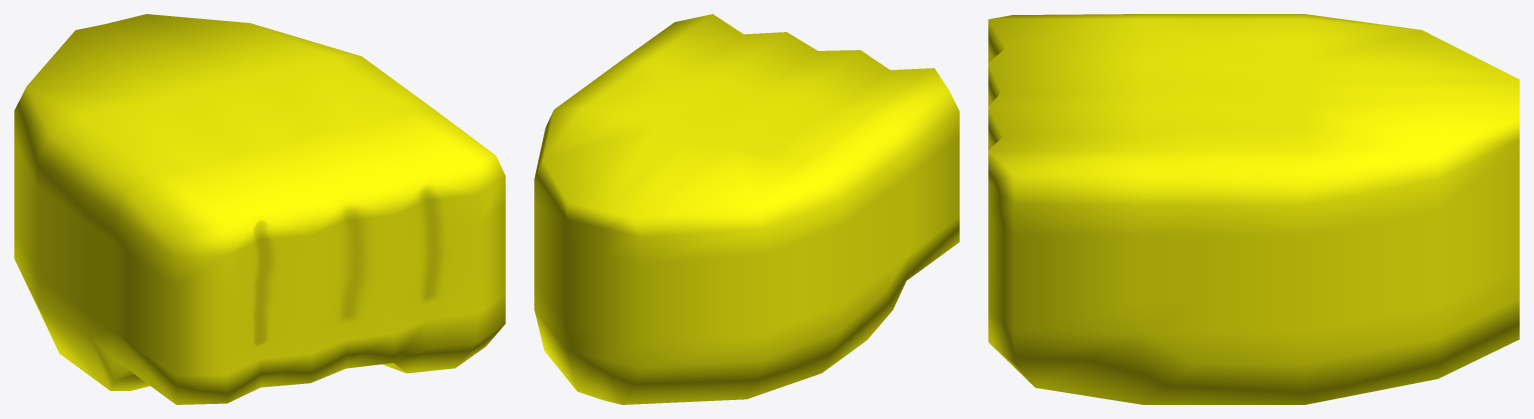
The model's file is normalAttack.obj.
3 views of the same model, side by side, from view 1: azimuth 30°, elevation 25°; view 2: azimuth 150°, elevation 25°; view 3: azimuth 270°, elevation 25° (orthographic). The views are drawn at different scales.
Parts seen in each view (by area): view 1: Cube; view 2: Cube; view 3: Cube.
Boxes of the visible parts, x1,y1,x2,y2 form: Cube: [14, 14, 505, 404]; Cube: [534, 14, 959, 404]; Cube: [988, 14, 1519, 404].
Bounding box in the file's own units: 2 × 1.35 × 2.57.
1 material, 1 textured.
